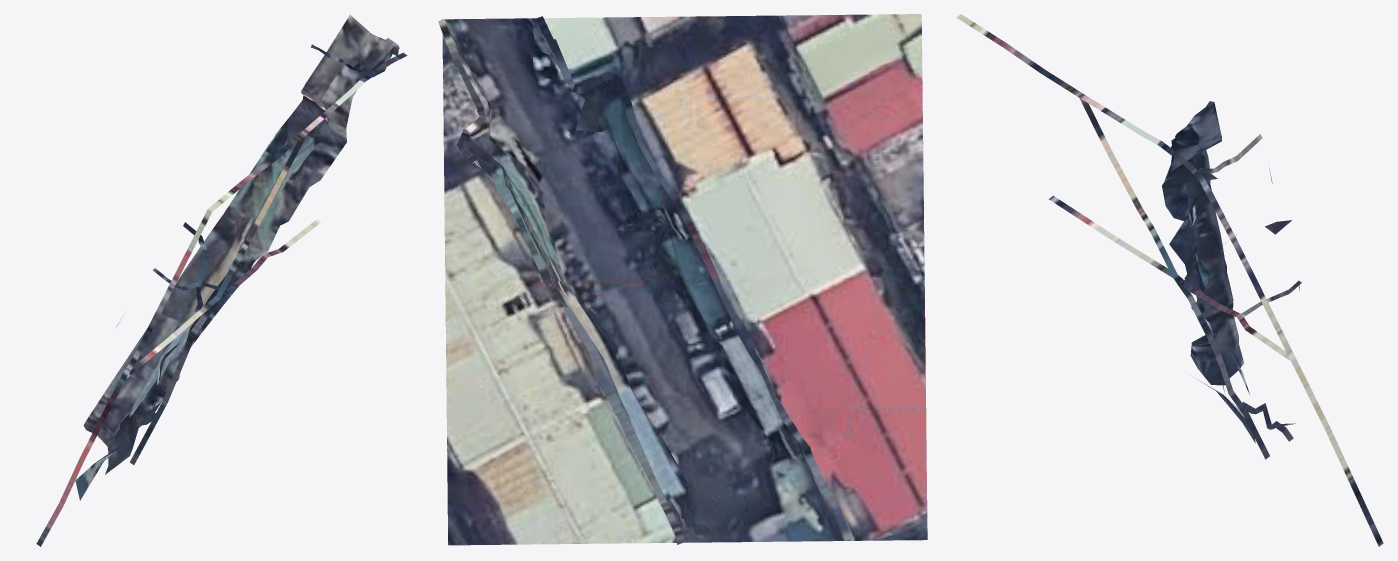
The picture shows the model from 3 angles, left to right: view 1: azimuth 30°, elevation 25°; view 2: azimuth 150°, elevation 25°; view 3: azimuth 270°, elevation 25°; orthographic projection. The views are drawn at different scales.
Bounding box in the file's own units: 38.13 × 37.22 × 32.35.
Materials: 1 (1 with a texture image).
